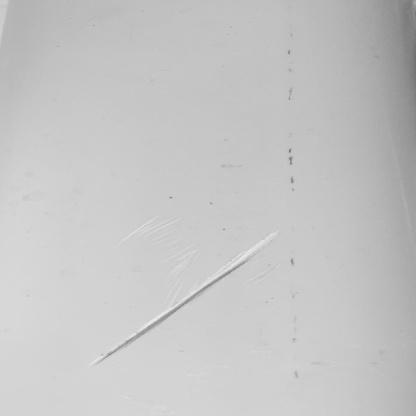sunshang: (82, 229, 277, 370)
